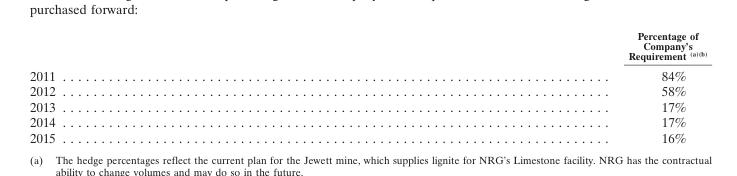table: (28, 28, 706, 145)
table column: (341, 28, 706, 145), (28, 28, 341, 145)
table column header: (28, 28, 706, 64)
table row: (28, 28, 706, 64), (28, 64, 706, 83), (28, 98, 706, 114), (28, 129, 706, 145), (28, 83, 706, 98), (28, 114, 706, 129)
